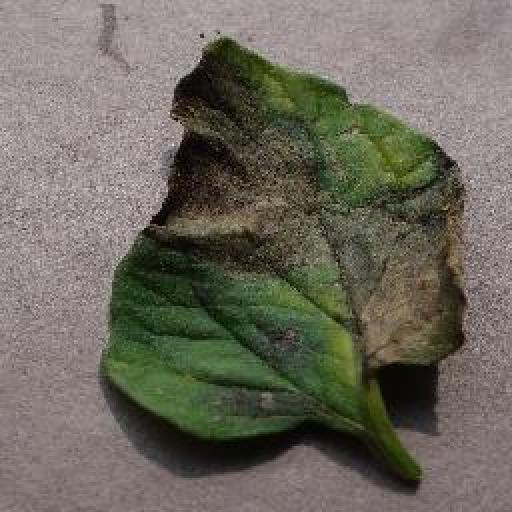Late Blight: (100, 33, 475, 444)
